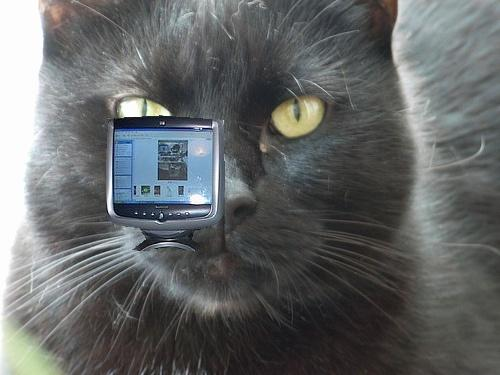tampered: (106, 116, 225, 251)
